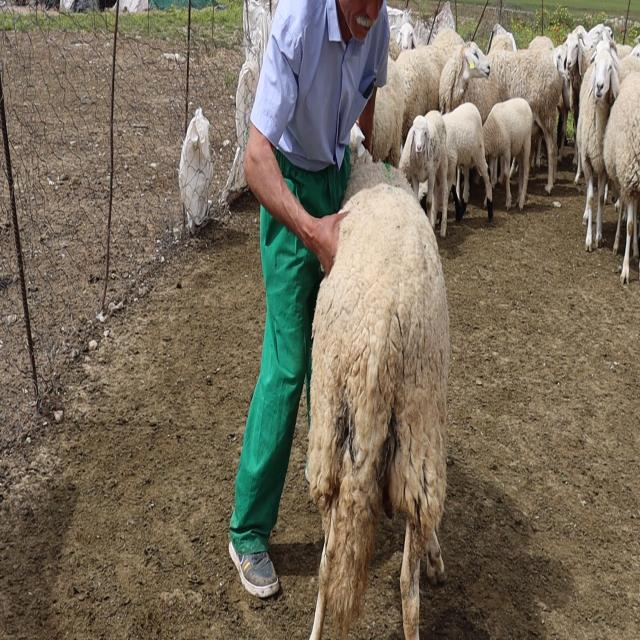Score_3: (306, 184, 450, 639)
